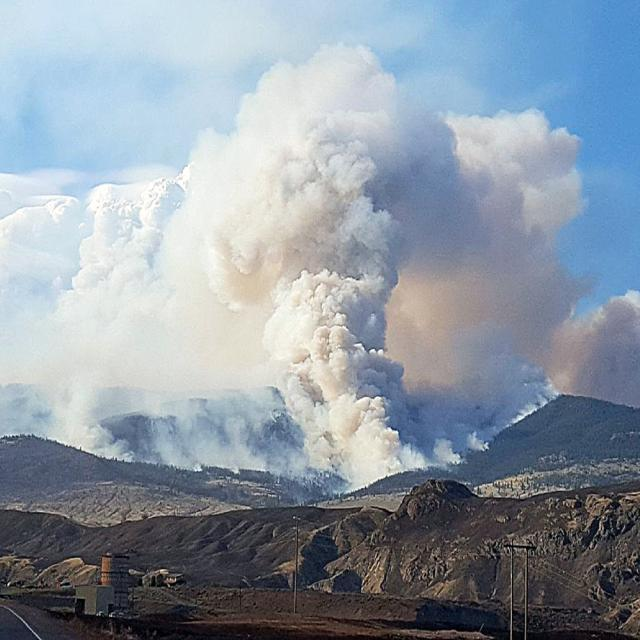Smoke: (190, 38, 640, 479)
